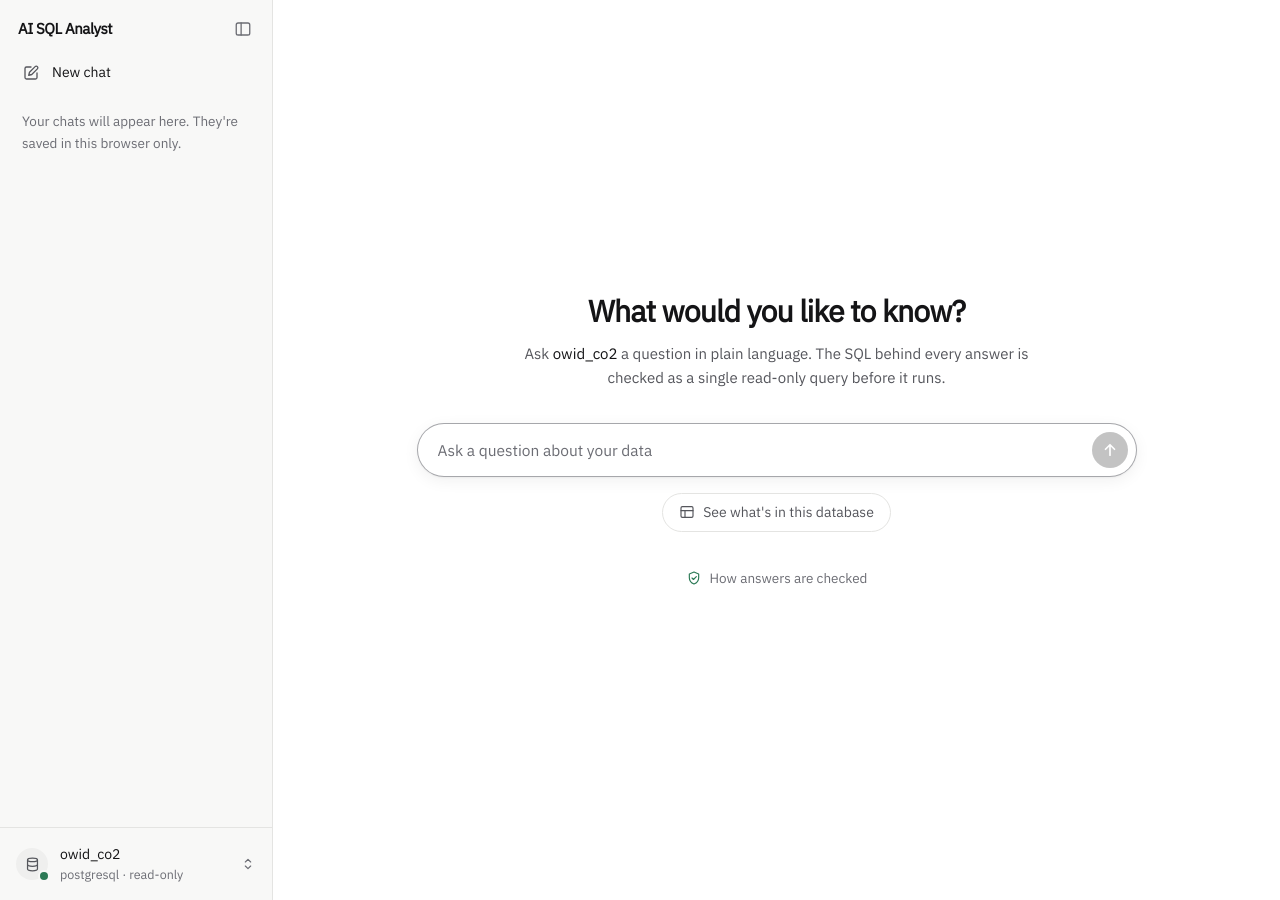
Test: App › shows a clarification question without SQL or a result grid
The width and height of the screenshot is (1280, 900).
Type "Who emits the most?" into the text box labelled "Ask a question about your data" at (760, 450), box [438,432,1084,468]
Then press Enter
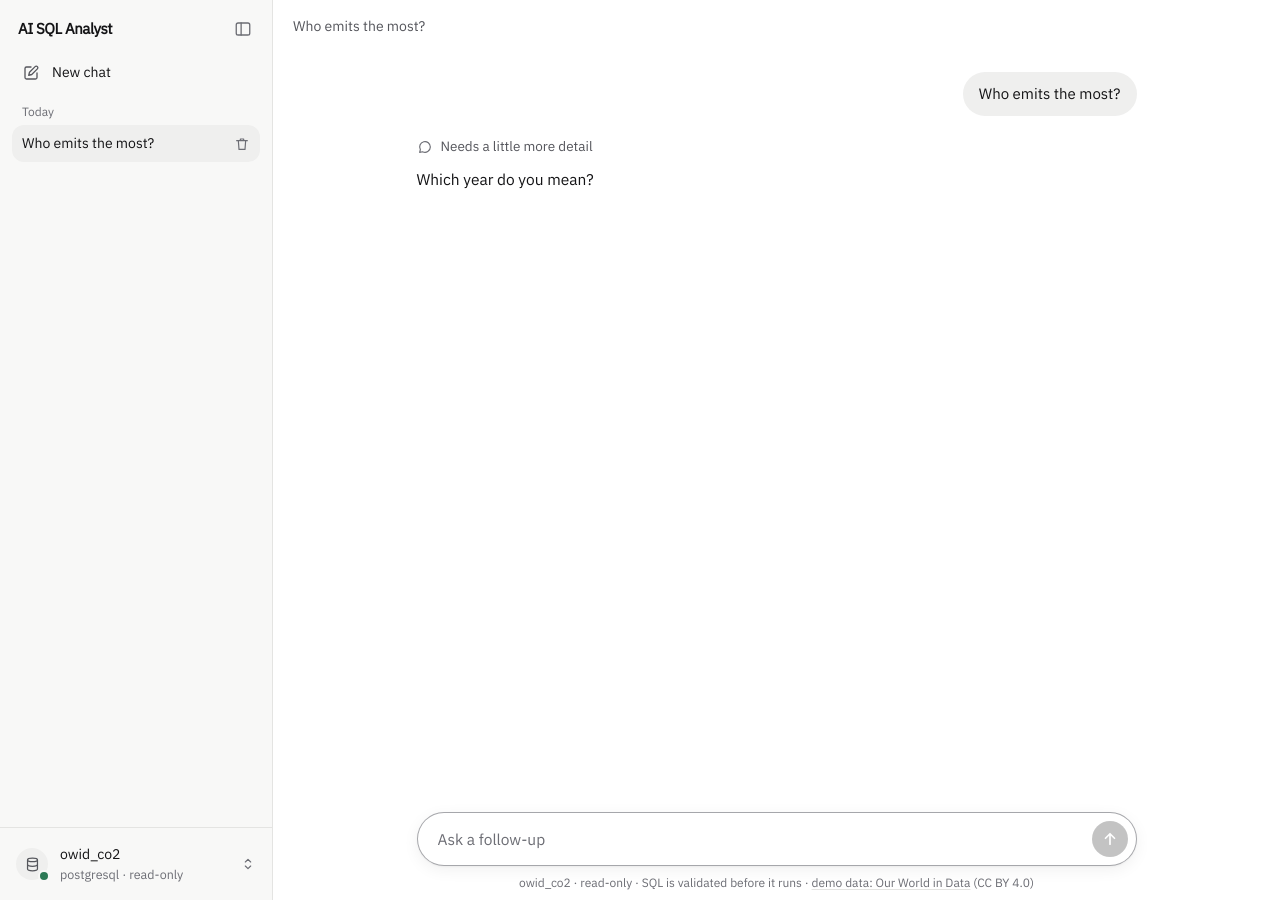
Result: the text "Which year do you mean?" is shown at [416,169,594,189]
